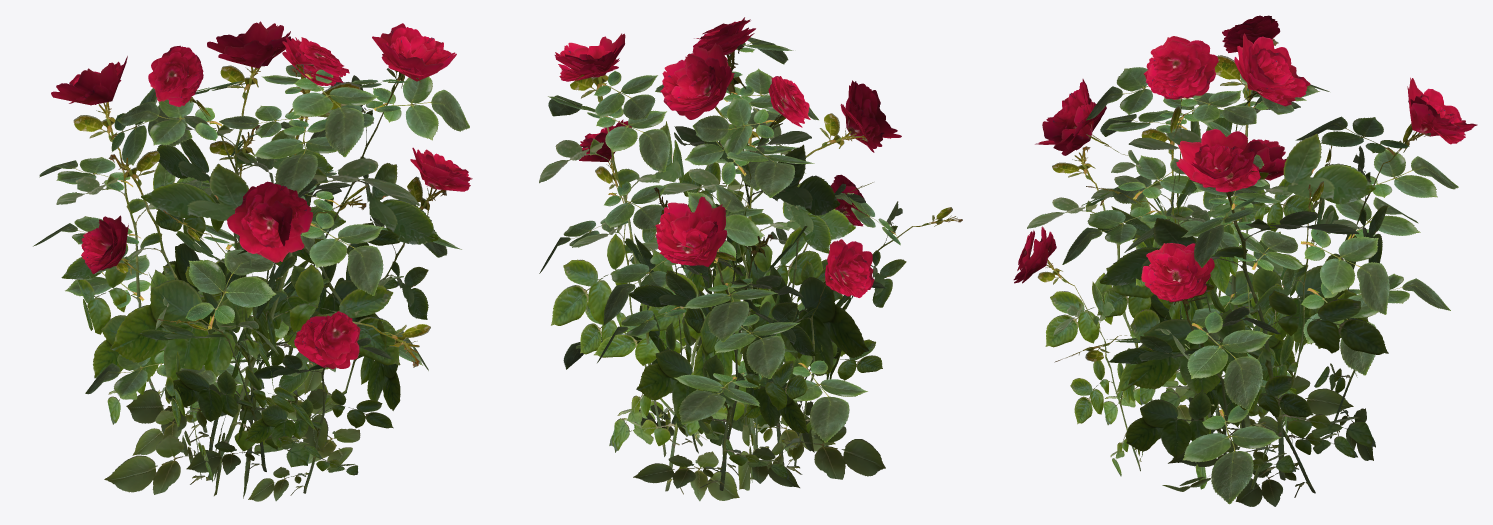
Rendered from roses.glb.
3 views of the same model, side by side, from view 1: azimuth 30°, elevation 25°; view 2: azimuth 150°, elevation 25°; view 3: azimuth 270°, elevation 25° (orthographic). The views are drawn at different scales.
Parts seen in each view (by area): view 1: node_id8_1_4; view 2: node_id8_1_4; view 3: node_id8_1_4.
Boxes of the visible parts, x1,y1,x2,y2 form: node_id8_1_4: (33,21,472,501); node_id8_1_4: (539,17,962,501); node_id8_1_4: (1013,15,1477,506).
Bounding box in the file's own units: 0.864 × 1.03 × 0.9228.
1 material, 1 textured.
